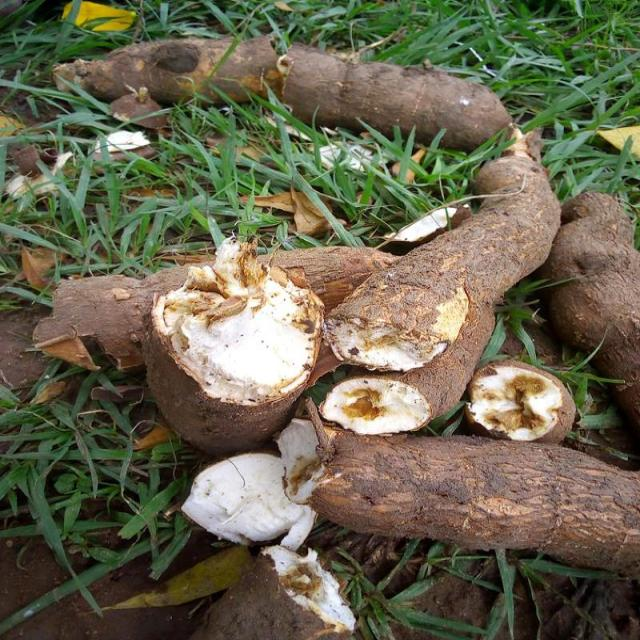cassava leaf: (319, 127, 562, 434), (140, 235, 325, 454), (463, 357, 576, 444)
